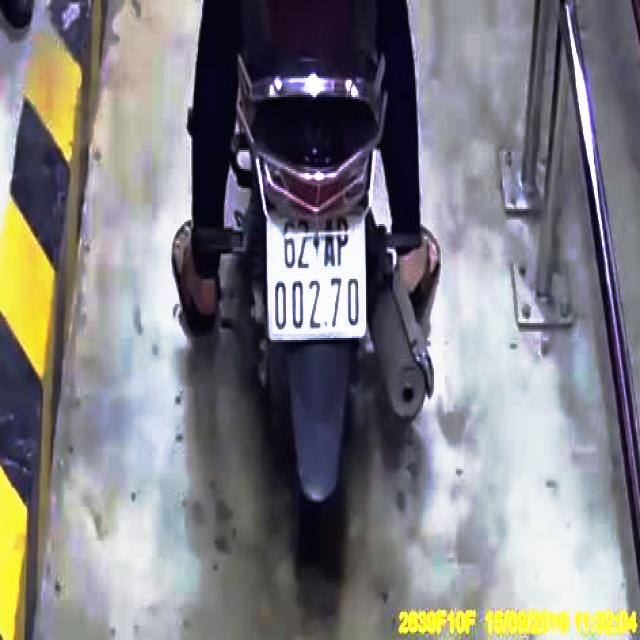license_plate: (268, 212, 367, 340)
